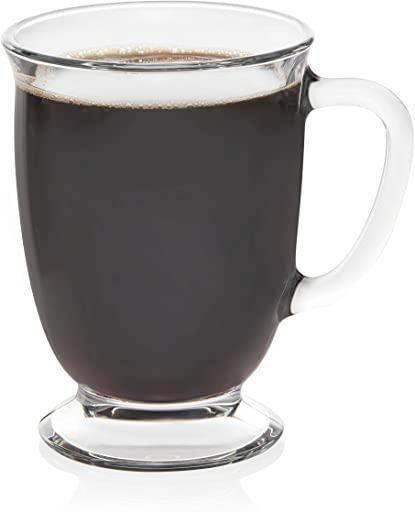glass-mug: (1, 1, 415, 477)
